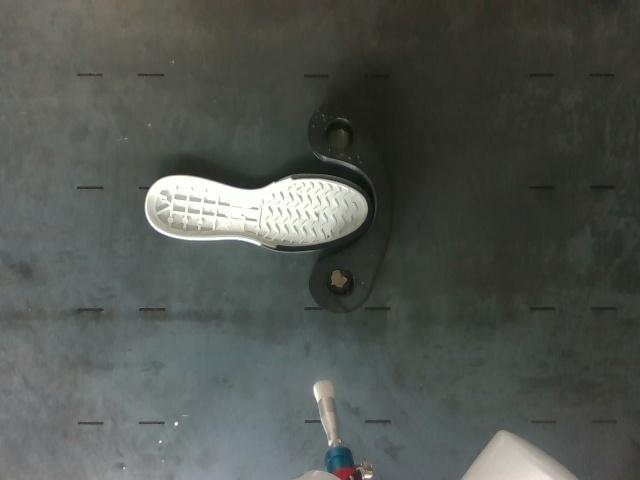shoes: (146, 175, 373, 252)
